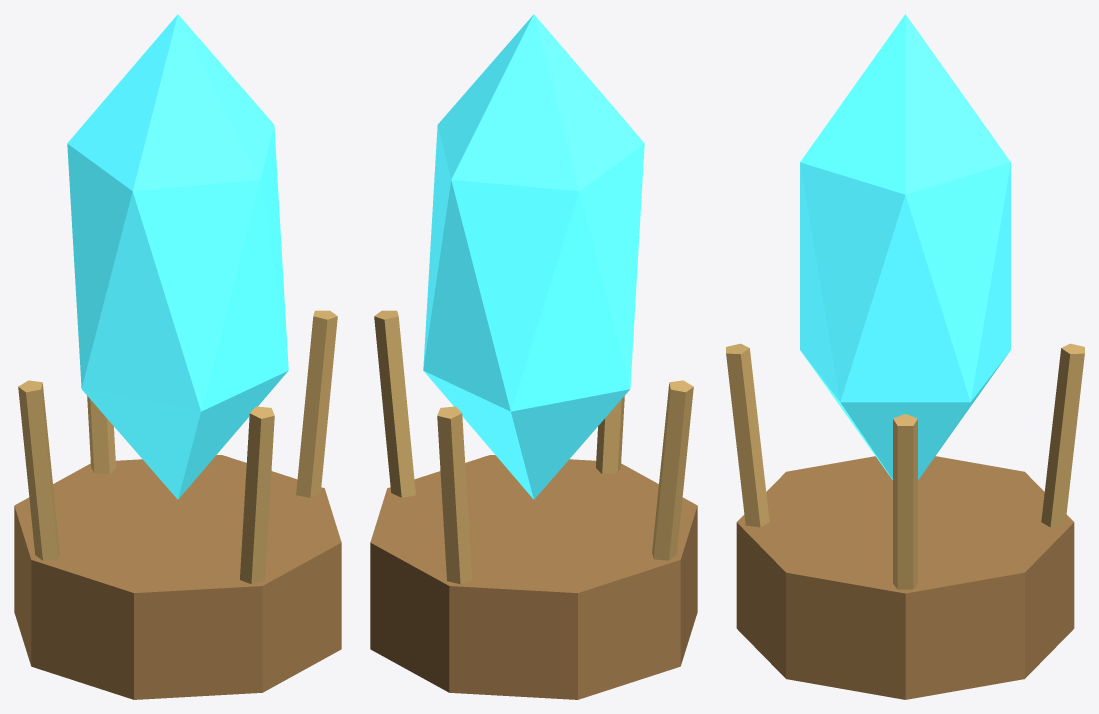
File: objective-crystal.fbx
3 views of the same model, side by side, from view 1: azimuth 30°, elevation 25°; view 2: azimuth 150°, elevation 25°; view 3: azimuth 270°, elevation 25° (orthographic).
Visible parts, largest first — view 1: floating focus, plinth, rune prong, rune prong.002, rune prong.003, rune prong.001; view 2: floating focus, plinth, rune prong, rune prong.002, rune prong.001, rune prong.003; view 3: floating focus, plinth, rune prong.001, rune prong.003, rune prong.
Part boxes in pixels (bbox=[...]): floating focus: bbox=[67, 14, 288, 499]; plinth: bbox=[14, 455, 341, 699]; rune prong: bbox=[296, 310, 337, 497]; rune prong.002: bbox=[18, 380, 59, 560]; rune prong.003: bbox=[240, 406, 274, 584]; rune prong.001: bbox=[87, 396, 115, 473]; floating focus: bbox=[423, 14, 644, 499]; plinth: bbox=[370, 455, 697, 699]; rune prong: bbox=[374, 310, 415, 497]; rune prong.002: bbox=[652, 380, 693, 560]; rune prong.001: bbox=[437, 406, 471, 584]; rune prong.003: bbox=[596, 396, 624, 473]; floating focus: bbox=[800, 14, 1010, 479]; plinth: bbox=[736, 456, 1074, 699]; rune prong.001: bbox=[1041, 343, 1084, 527]; rune prong.003: bbox=[726, 343, 769, 527]; rune prong: bbox=[893, 414, 917, 589].
Bounding box in the file's own units: 48.9 × 92.4 × 48.9.
